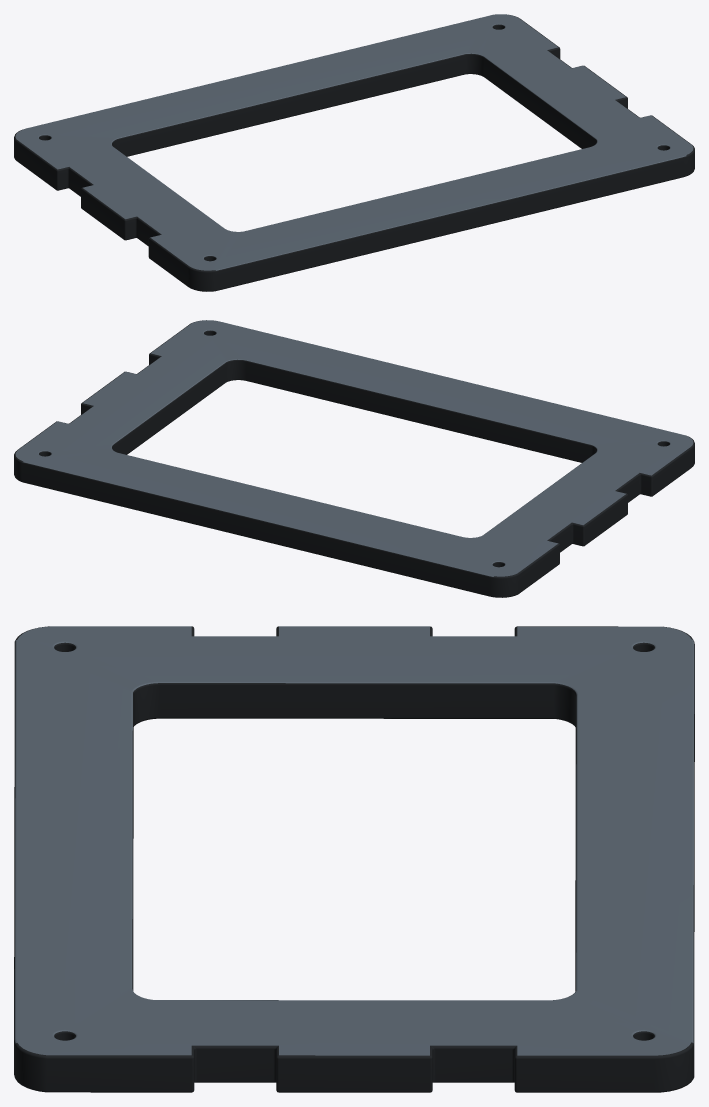
The model's file is plate-03-access-security.glb.
The picture shows the model from 3 angles, top to bottom: view 1: azimuth 30°, elevation 25°; view 2: azimuth 150°, elevation 25°; view 3: azimuth 270°, elevation 25°; orthographic projection. The views are drawn at different scales.
Parts seen in each view (by area): view 1: Plate_03_Access_Security; view 2: Plate_03_Access_Security; view 3: Plate_03_Access_Security.
Part boxes in pixels (<box>): Plate_03_Access_Security: <box>14,14,694,291</box>; Plate_03_Access_Security: <box>14,320,694,597</box>; Plate_03_Access_Security: <box>14,626,694,1092</box>.
Bounding box in the file's own units: 0.3 × 0.012 × 0.2.
